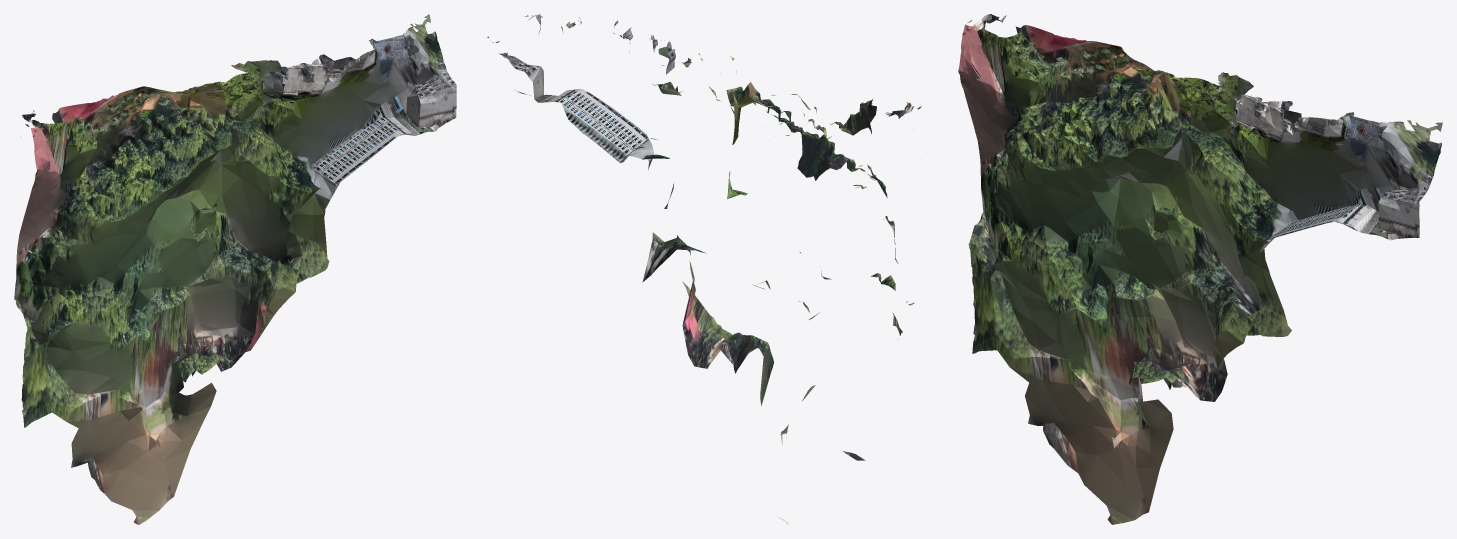
File: Tile_+002_+000.glb
3 views of the same model, side by side, from view 1: azimuth 30°, elevation 25°; view 2: azimuth 150°, elevation 25°; view 3: azimuth 330°, elevation 25° (orthographic). The views are drawn at different scales.
Visible parts, largest first — view 1: Node; view 2: Node; view 3: Node.
Boxes of the visible parts, x1,y1,x2,y2 form: Node: (14, 14, 456, 524); Node: (487, 14, 921, 524); Node: (958, 14, 1442, 524).
Size of the model in its own units: 200 by 199 by 32.02.
1 material, 1 textured.
